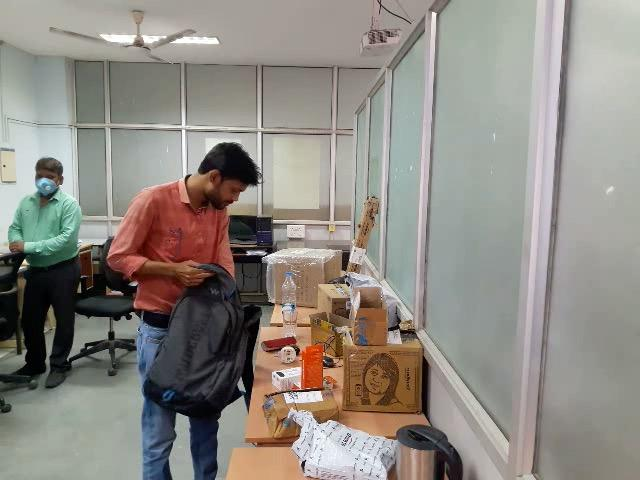shoplifting: (91, 239, 421, 440)
